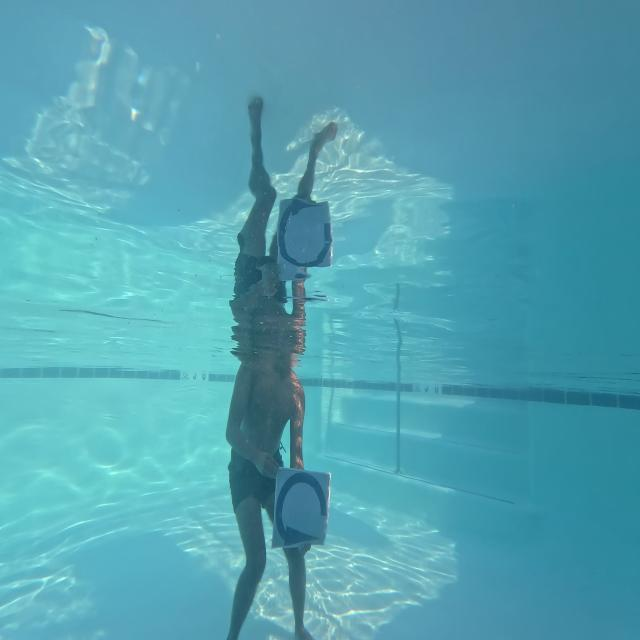blue_side: (273, 467, 330, 554)
